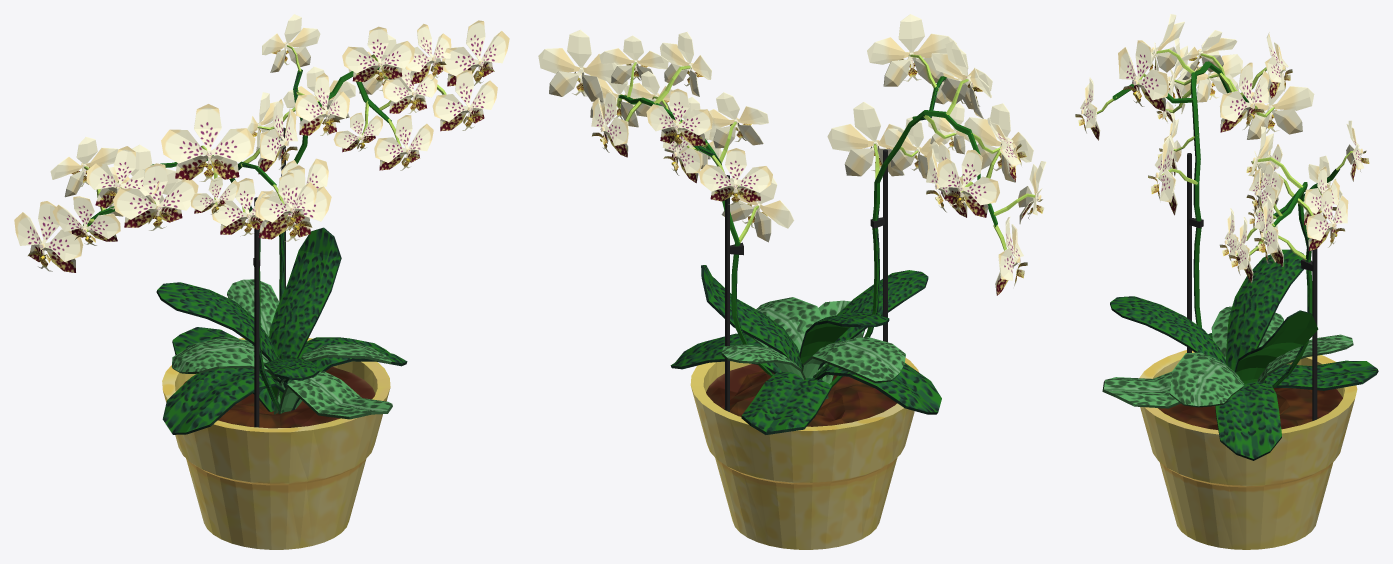
The model's file is Phalaenopsis_Perfect_End.glb.
The picture shows the model from 3 angles, left to right: view 1: azimuth 30°, elevation 25°; view 2: azimuth 150°, elevation 25°; view 3: azimuth 270°, elevation 25°; orthographic projection. The views are drawn at different scales.
Parts seen in each view (by area): view 1: Plant, Pot; view 2: Plant, Pot; view 3: Plant, Pot.
Part boxes in pixels (x1,y1,x2,y2): Plant: [14, 14, 509, 434]; Pot: [162, 338, 390, 549]; Plant: [538, 14, 1046, 434]; Pot: [690, 358, 918, 549]; Plant: [1075, 14, 1378, 460]; Pot: [1139, 350, 1357, 549].
Size of the model in its own units: 4.97 by 4.65 by 2.8.
Materials: 9 (6 with a texture image).
